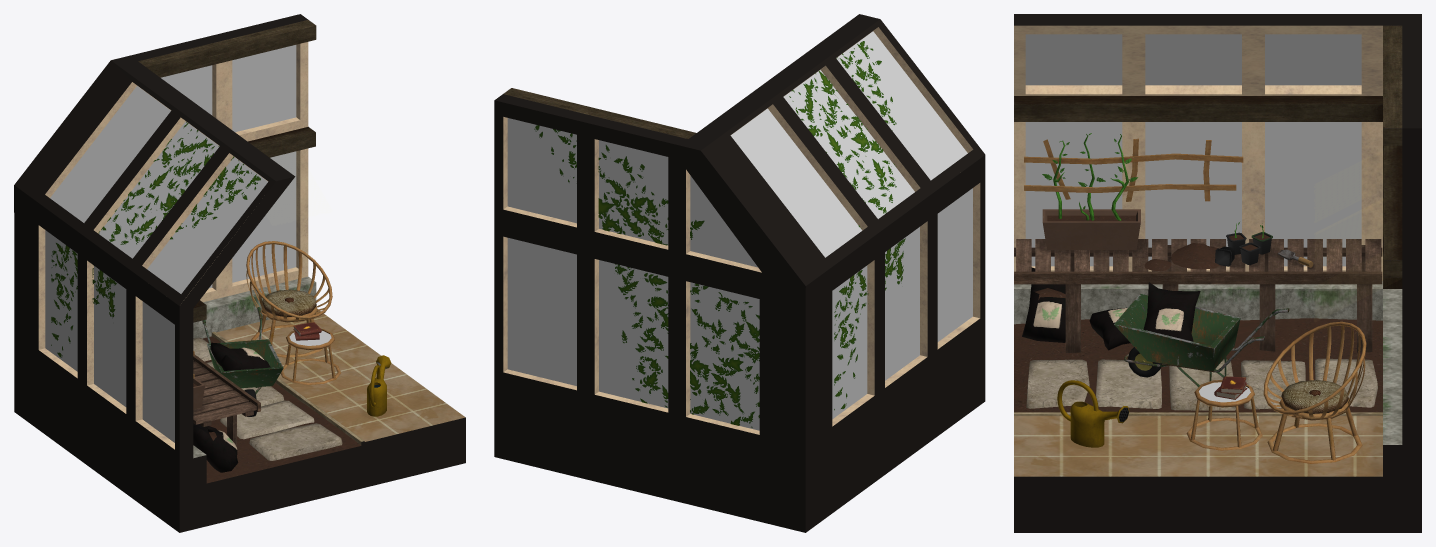
The picture shows the model from 3 angles, left to right: view 1: azimuth 30°, elevation 25°; view 2: azimuth 150°, elevation 25°; view 3: azimuth 270°, elevation 25°; orthographic projection. The views are drawn at different scales.
Parts seen in each view (by area): view 1: Greenhouse; view 2: Greenhouse; view 3: Greenhouse.
Part boxes in pixels (box(x1,y1,x2,y2)): Greenhouse: box(14, 14, 465, 532); Greenhouse: box(494, 14, 985, 532); Greenhouse: box(1014, 14, 1421, 532).
Bounding box in the file's own units: 4.2 × 4.6 × 4.2.
